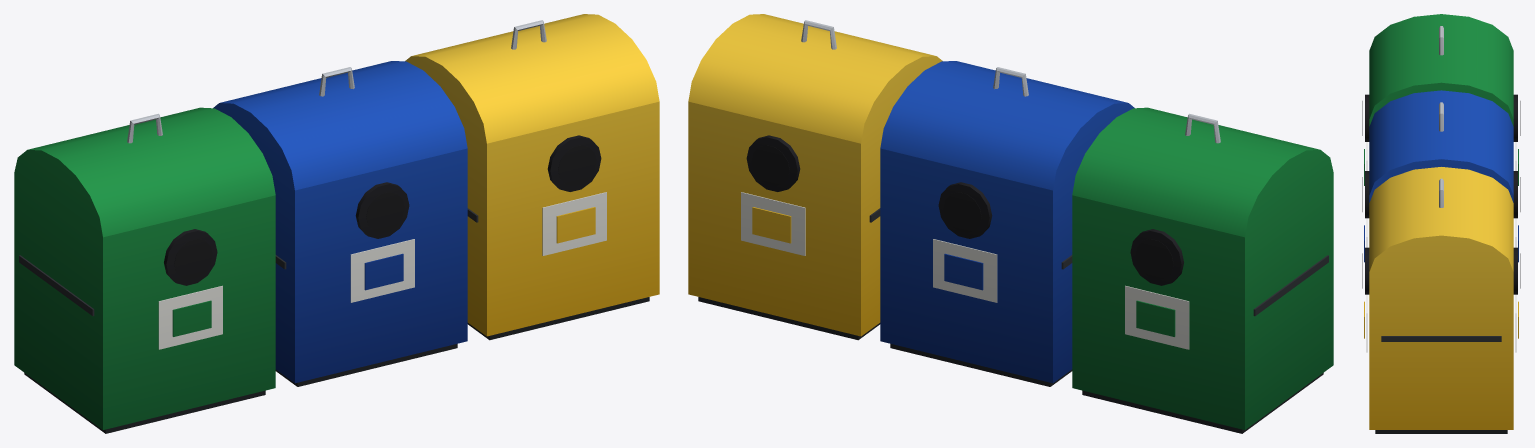
File: Recycling_Bins.fbx
3 views of the same model, side by side, from view 1: azimuth 30°, elevation 25°; view 2: azimuth 150°, elevation 25°; view 3: azimuth 270°, elevation 25° (orthographic). The views are drawn at different scales.
Parts seen in each view (by area): view 1: Recycling_Bins_LOD0; view 2: Recycling_Bins_LOD0; view 3: Recycling_Bins_LOD0.
Boxes of the visible parts, bbox=[...] form: Recycling_Bins_LOD0: bbox=[14, 14, 659, 433]; Recycling_Bins_LOD0: bbox=[688, 14, 1333, 433]; Recycling_Bins_LOD0: bbox=[1362, 14, 1520, 433].
Size of what is drawn, in the model's own units: 4.39 by 1.99 by 1.31.
1 material, 1 textured.
